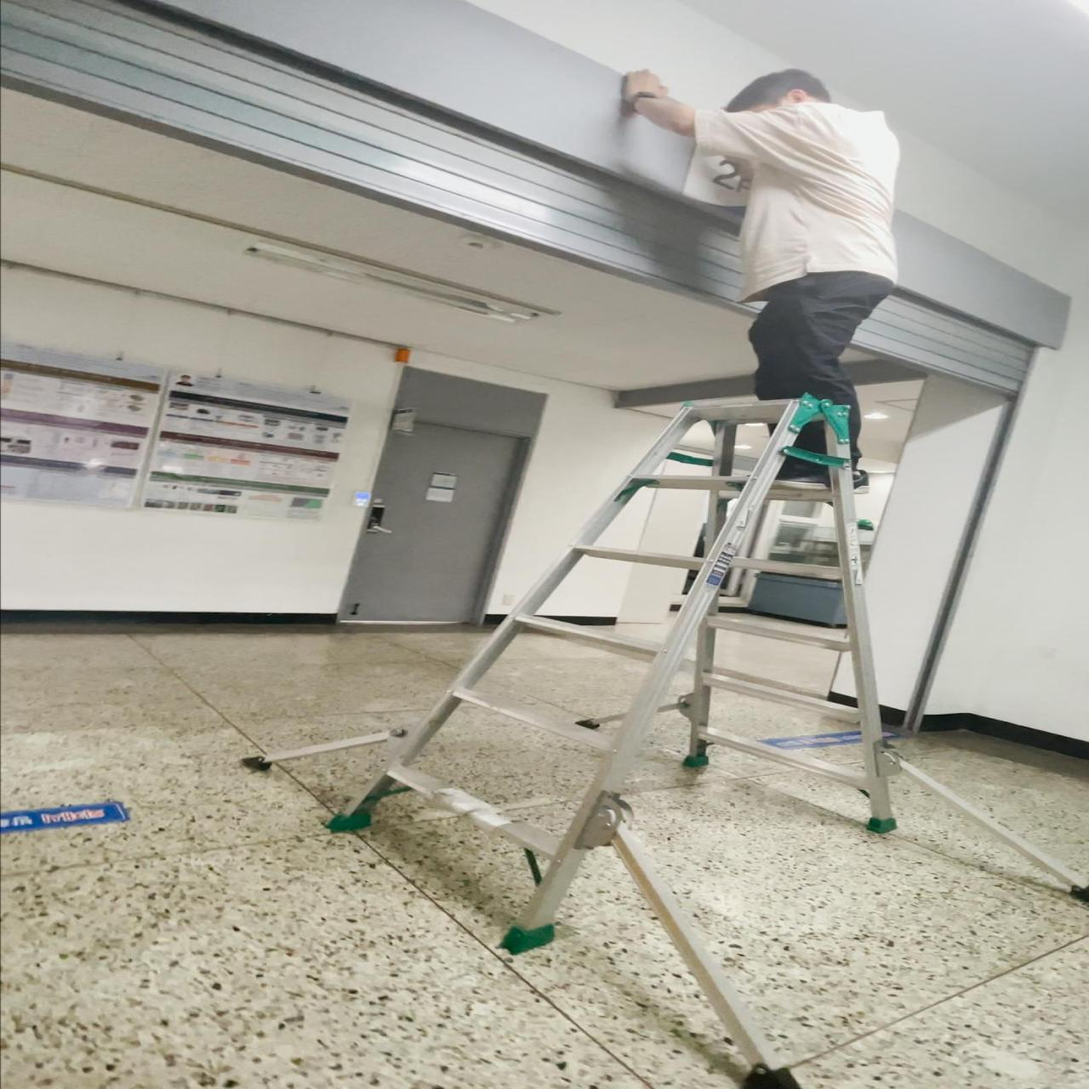NO_Safety_Vest: (744, 112, 906, 290)
Person: (633, 62, 905, 494)
